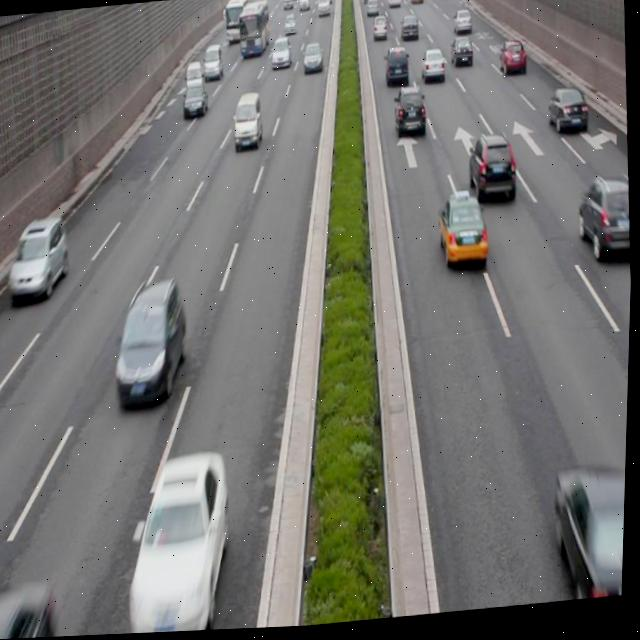car: (124, 453, 237, 628), (553, 468, 629, 604), (112, 286, 192, 408), (575, 176, 634, 271), (7, 217, 71, 304), (437, 194, 489, 275), (465, 137, 518, 211), (546, 92, 589, 142), (392, 90, 426, 142), (498, 42, 527, 83), (183, 86, 210, 122), (421, 53, 446, 88)
truck: (232, 95, 264, 151), (383, 50, 411, 92)
